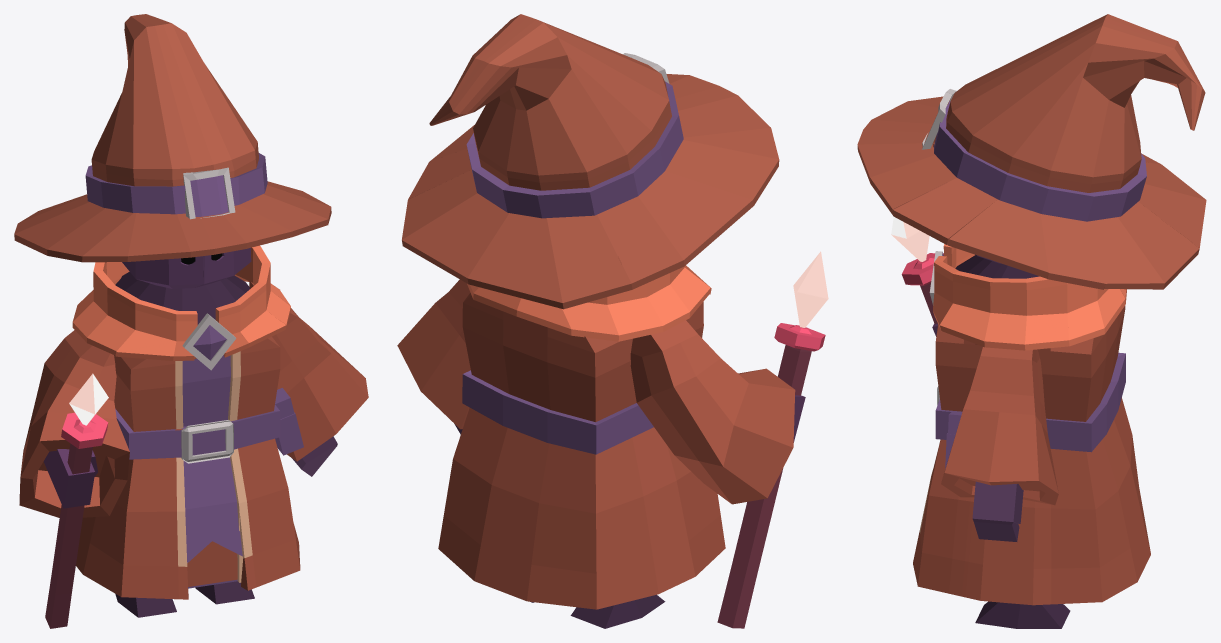
File: bruja.glb
The picture shows the model from 3 angles, left to right: view 1: azimuth 30°, elevation 25°; view 2: azimuth 150°, elevation 25°; view 3: azimuth 270°, elevation 25°; orthographic projection. The views are drawn at different scales.
Visible parts, largest first — view 1: Cubo.002, Cilindro.003, Cilindro.001, Cubo.005, Cubo.004, Cubo, Cilindro.004, Cubo.007, Cubo.003, Cilindro, Cubo.006, Cono.001 (+3 smaller); view 2: Cilindro.003, Cubo.002, Cubo.005, Cilindro.001, Cubo.004, Cubo, Cono.001, Cubo.009, Cilindro; view 3: Cilindro.003, Cubo.002, Cubo.004, Cilindro.001, Cubo.008, Cubo.001, Cono.001, Cilindro.
Part boxes in pixels (bbox=[...]): Cubo.002: bbox=[76, 271, 300, 599]; Cilindro.003: bbox=[14, 14, 331, 262]; Cilindro.001: bbox=[72, 245, 290, 360]; Cubo.005: bbox=[19, 330, 129, 517]; Cubo.004: bbox=[249, 281, 368, 461]; Cubo: bbox=[45, 443, 92, 628]; Cilindro.004: bbox=[122, 248, 251, 288]; Cubo.007: bbox=[43, 449, 97, 508]; Cubo.003: bbox=[182, 313, 236, 370]; Cilindro: bbox=[61, 412, 108, 448]; Cubo.006: bbox=[275, 388, 303, 455]; Cono.001: bbox=[69, 373, 108, 425]; Cilindro.003: bbox=[402, 14, 779, 309]; Cubo.002: bbox=[438, 293, 725, 609]; Cubo.005: bbox=[630, 320, 795, 504]; Cilindro.001: bbox=[467, 265, 711, 341]; Cubo.004: bbox=[397, 279, 470, 429]; Cubo: bbox=[717, 345, 811, 628]; Cono.001: bbox=[793, 251, 828, 327]; Cubo.009: bbox=[570, 594, 665, 628]; Cilindro: bbox=[774, 323, 825, 351]; Cilindro.003: bbox=[857, 14, 1206, 289]; Cubo.002: bbox=[913, 255, 1150, 605]; Cubo.004: bbox=[941, 347, 1058, 505]; Cilindro.001: bbox=[933, 244, 1126, 350]; Cubo.008: bbox=[972, 481, 1023, 541]; Cubo.001: bbox=[975, 601, 1070, 628]; Cono.001: bbox=[891, 217, 929, 261]; Cilindro: bbox=[901, 253, 943, 285].
Bounding box in the file's own units: 2.27 × 3.45 × 1.86.
